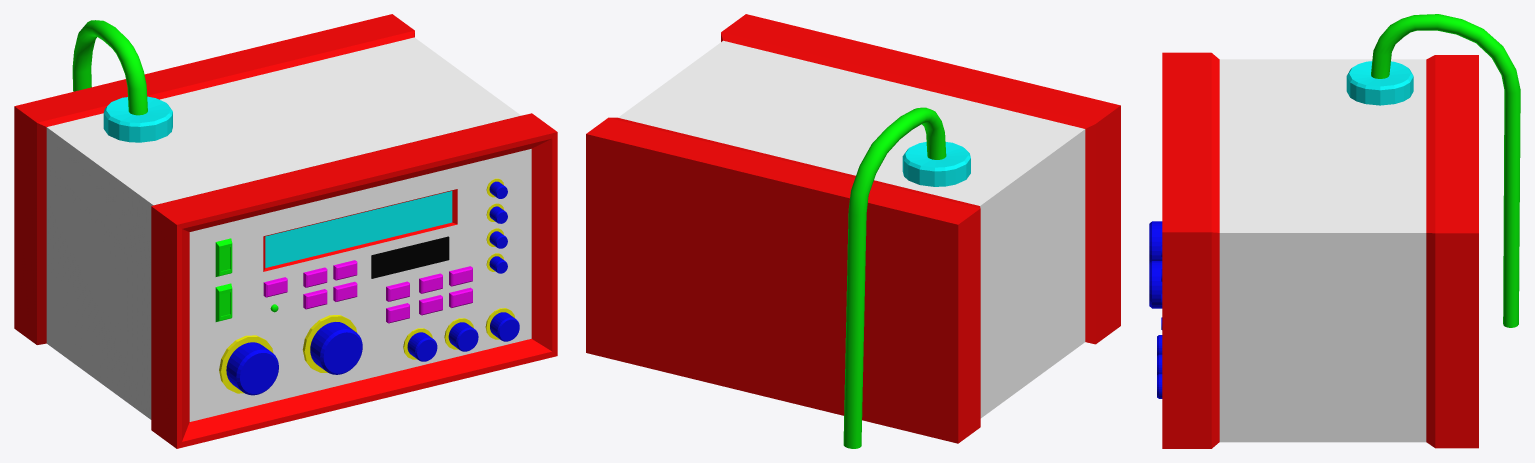
File: Radio.fbx
3 renders of one model, left to right at view 1: azimuth 30°, elevation 25°; view 2: azimuth 150°, elevation 25°; view 3: azimuth 270°, elevation 25°, orthographic. The views are drawn at different scales.
Parts seen in each view (by area): view 1: Radio, Perillas, Antena, Botones, Sujetadores, Placa, Conectores; view 2: Radio, Antena; view 3: Radio, Antena, Perillas.
Part boxes in pixels (x1,y1,x2,y2): Radio: (14, 14, 557, 448); Perillas: (226, 181, 519, 395); Antena: (72, 20, 172, 142); Botones: (263, 260, 472, 323); Sujetadores: (219, 178, 515, 393); Placa: (371, 236, 449, 278); Conectores: (215, 238, 232, 321); Radio: (586, 14, 1120, 443); Antena: (843, 107, 970, 448); Radio: (1162, 52, 1478, 448); Antena: (1346, 14, 1520, 327); Perillas: (1149, 221, 1162, 398).
Size of the model in its own units: 45.63 by 35.66 by 39.86.
